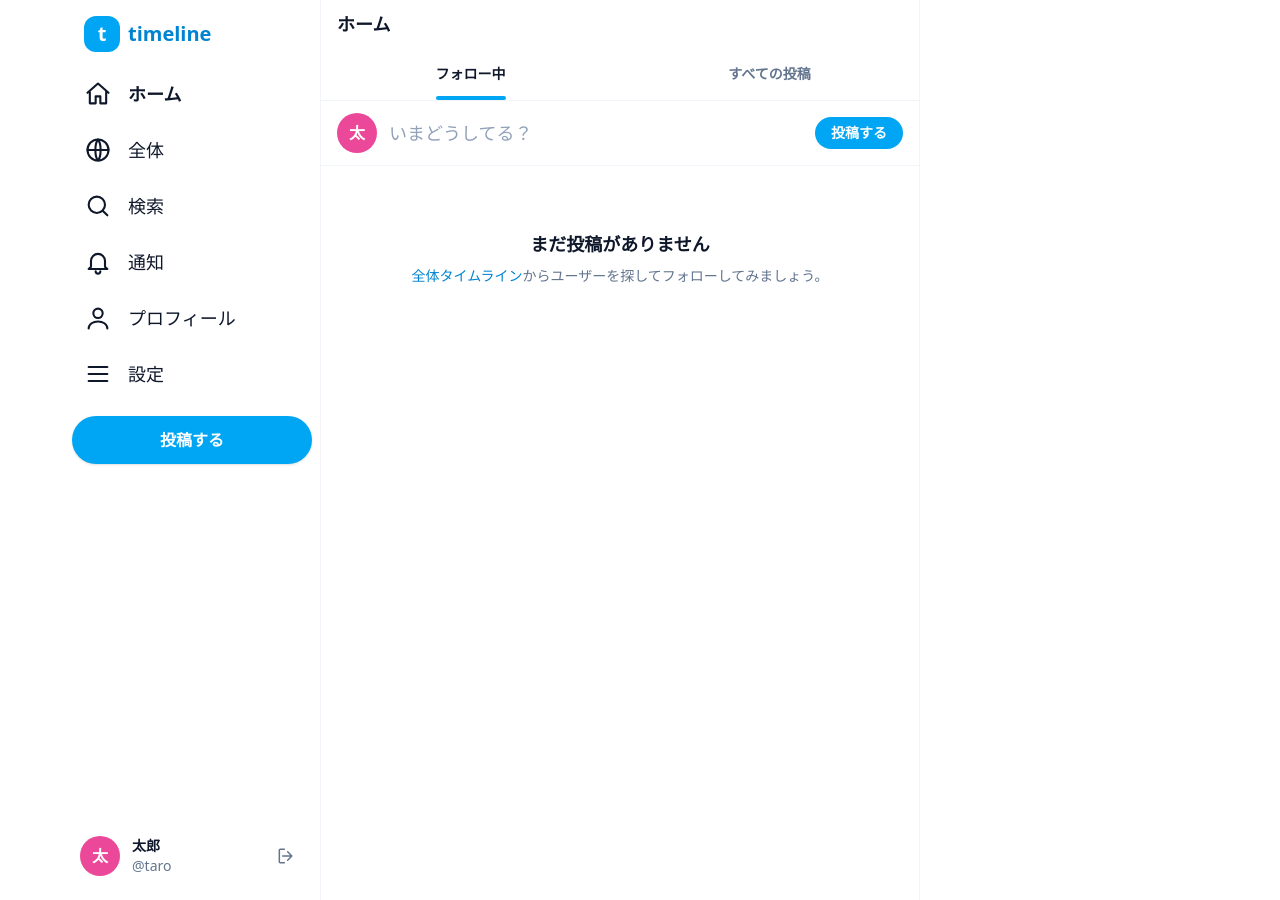
Test: ホームタイムラインと投稿 › サーバーの入力エラーを表示する
Click the button "投稿する" at (192,440), box 72,416 -> 312,464
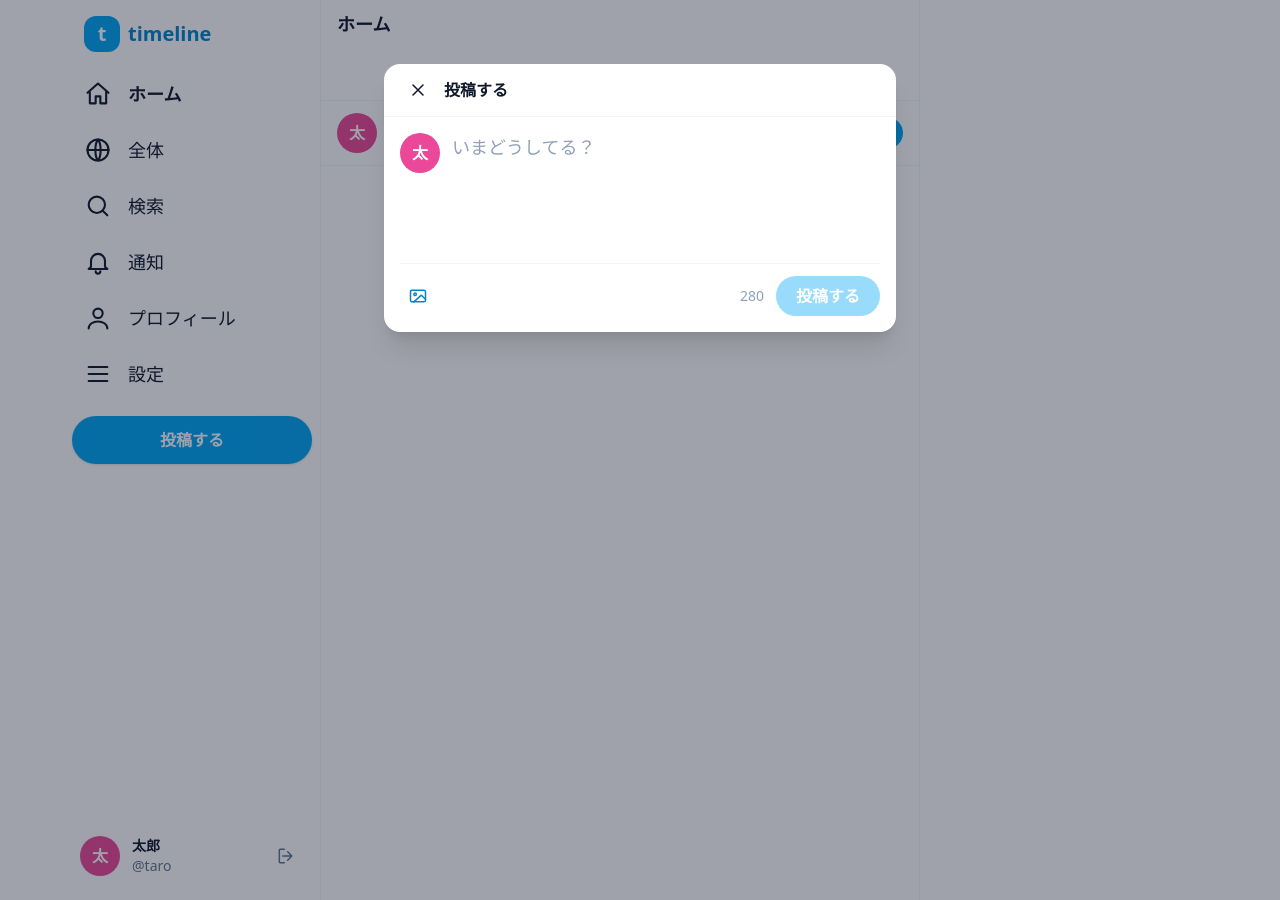
Type "x" into the text box named "本文" at (666,189), box 452,133 -> 880,245
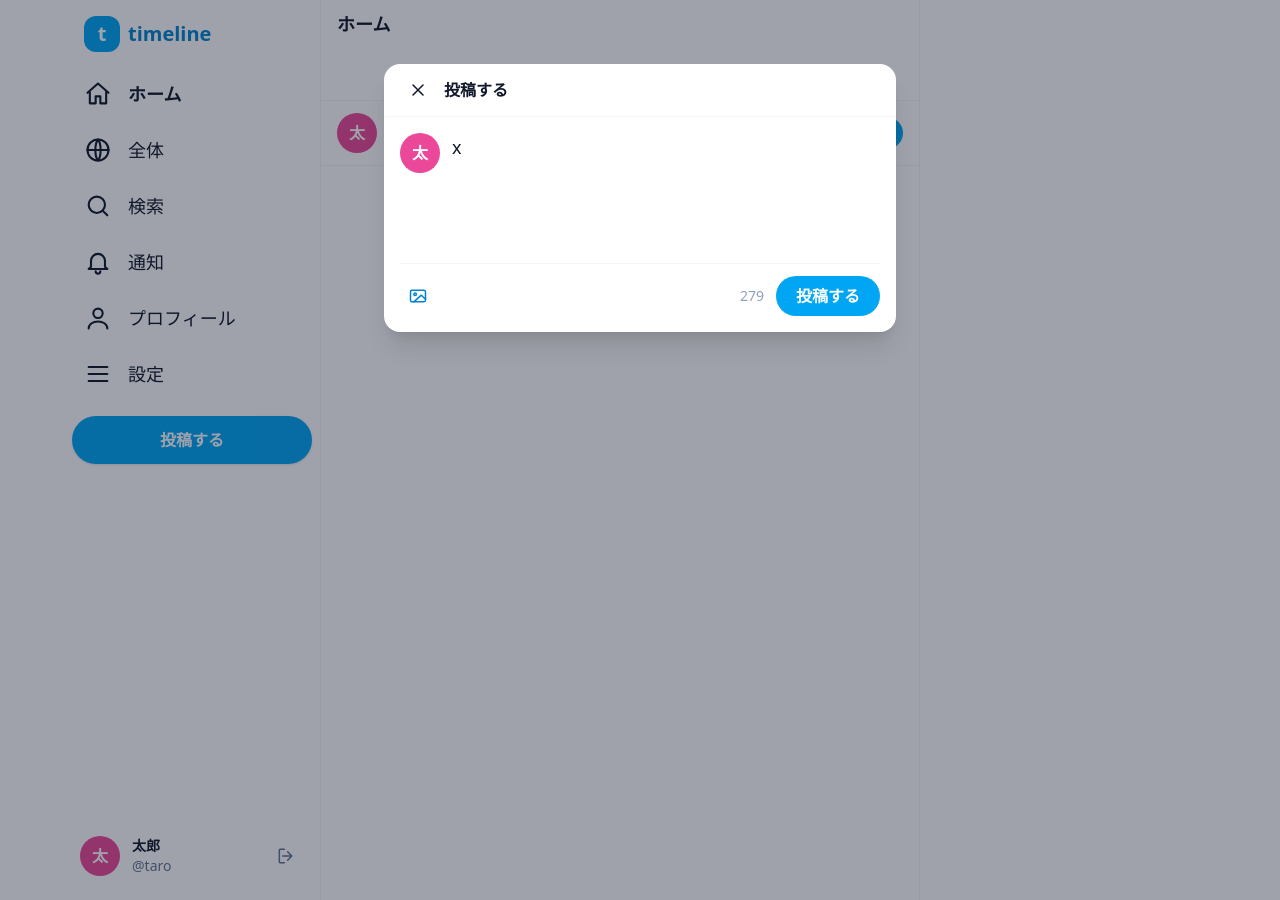
Click the button "投稿する" at (828,296), box 776,276 -> 880,316
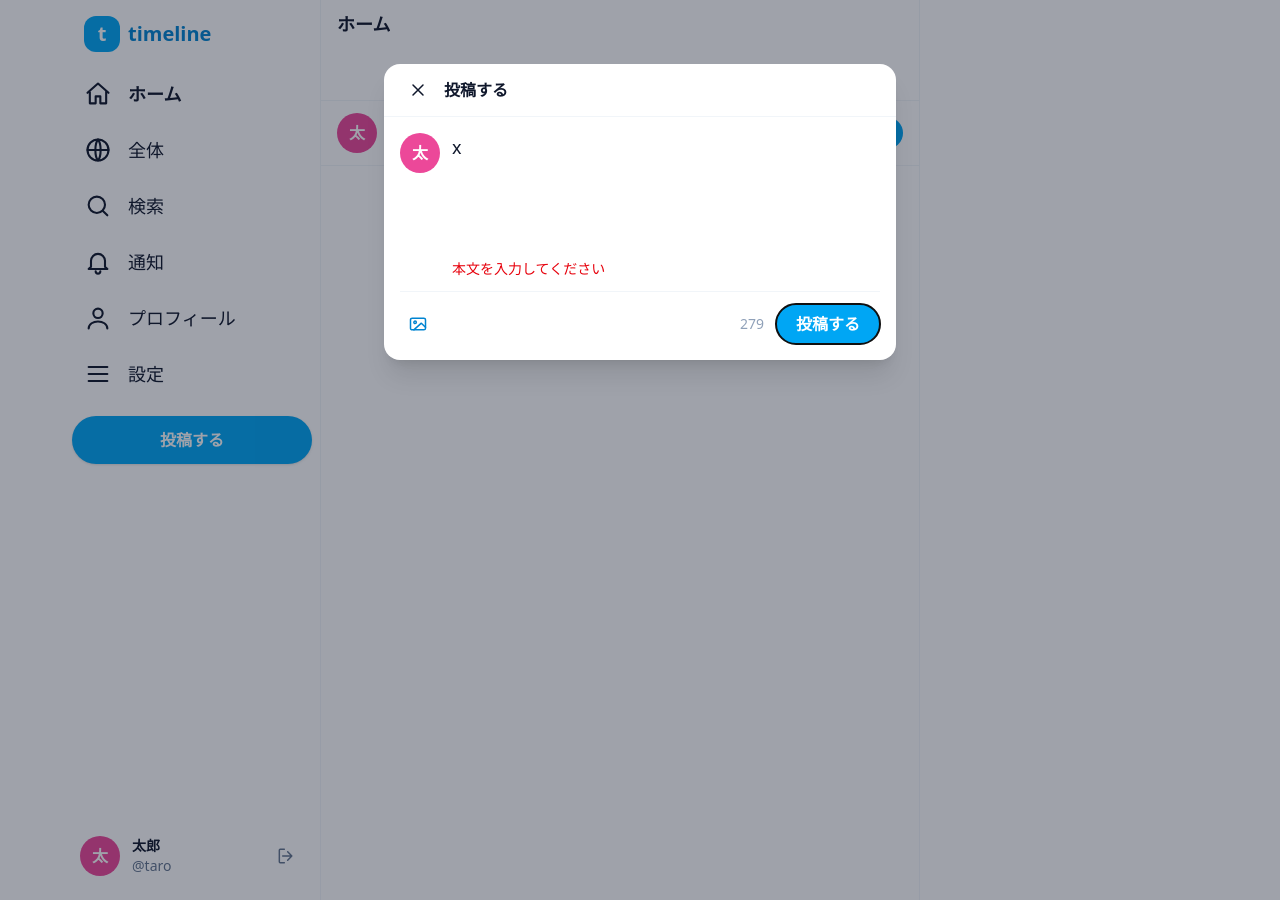
expect the message reads "本文を入力してください": met, box 452,259 -> 605,278
